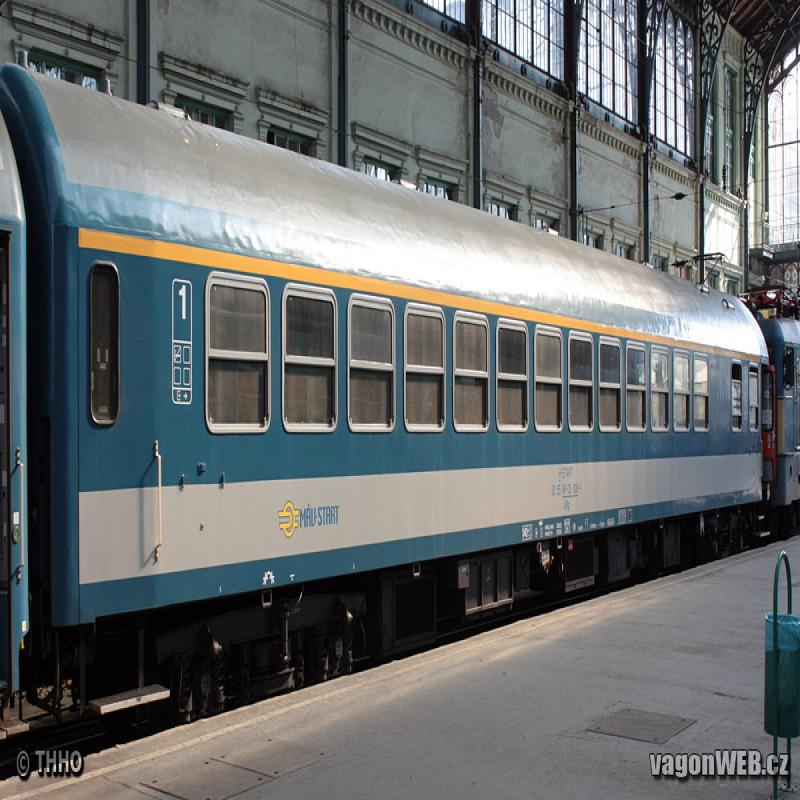train: (4, 63, 777, 737)
